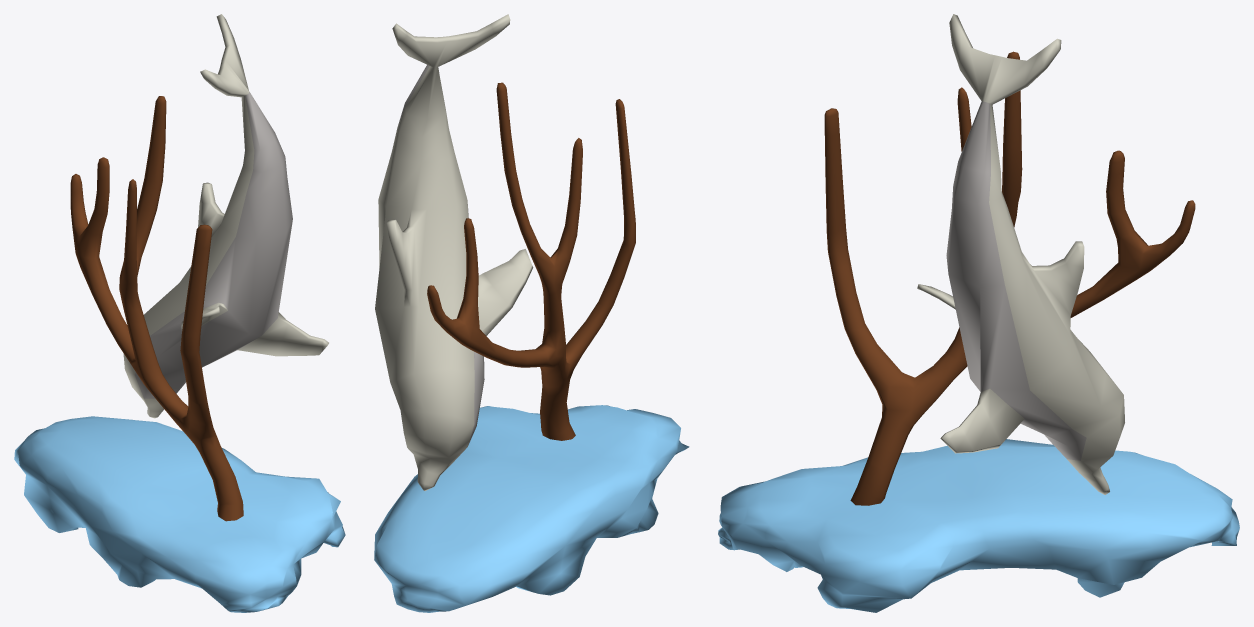
File: Tree-Dolphin-no3.gltf
3 views of the same model, side by side, from view 1: azimuth 30°, elevation 25°; view 2: azimuth 150°, elevation 25°; view 3: azimuth 270°, elevation 25° (orthographic). The views are drawn at different scales.
Parts seen in each view (by area): view 1: Tree-Dolphin-no3; view 2: Tree-Dolphin-no3; view 3: Tree-Dolphin-no3.
Boxes of the visible parts, <box> form: Tree-Dolphin-no3: <box>14,14,345,612</box>; Tree-Dolphin-no3: <box>374,14,689,612</box>; Tree-Dolphin-no3: <box>718,14,1239,612</box>.
Size of the model in its own units: 1.56 by 3.08 by 2.55.
Materials: 1 (1 with a texture image).
